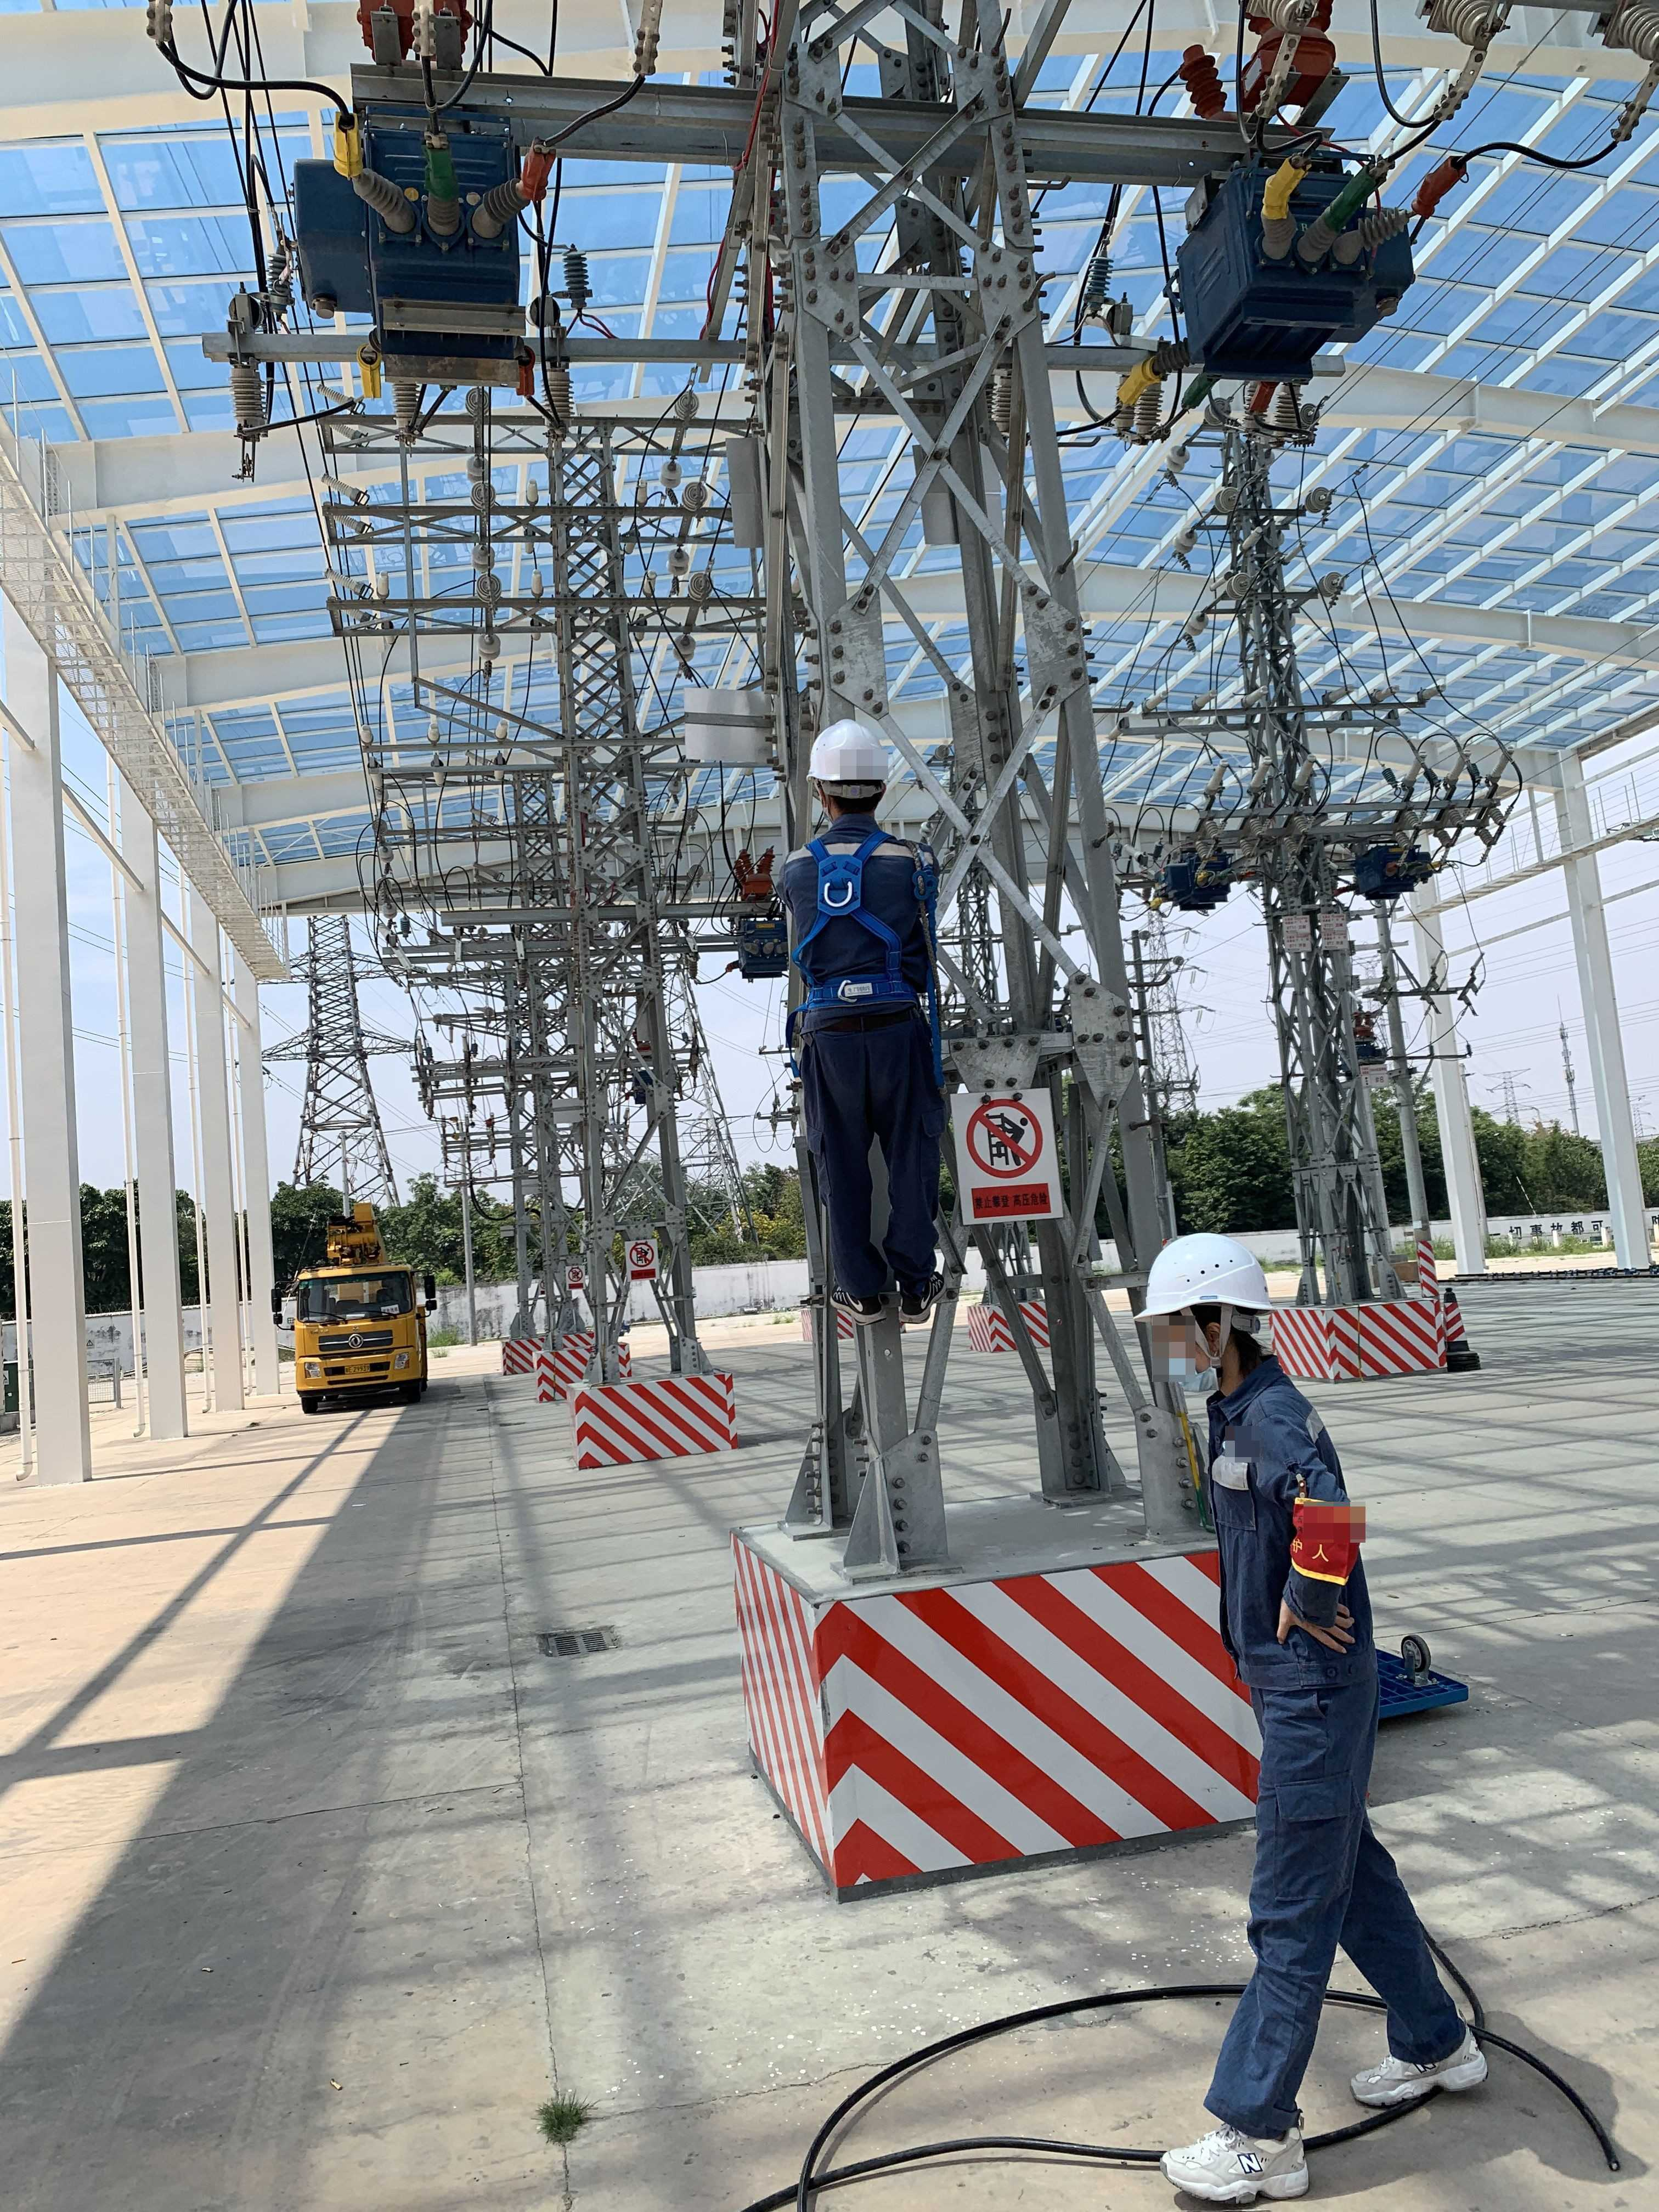downsuit: (1211, 1689, 1448, 2128), (791, 1024, 958, 1298)
upsuit: (1204, 1383, 1377, 1677), (784, 822, 943, 989)
